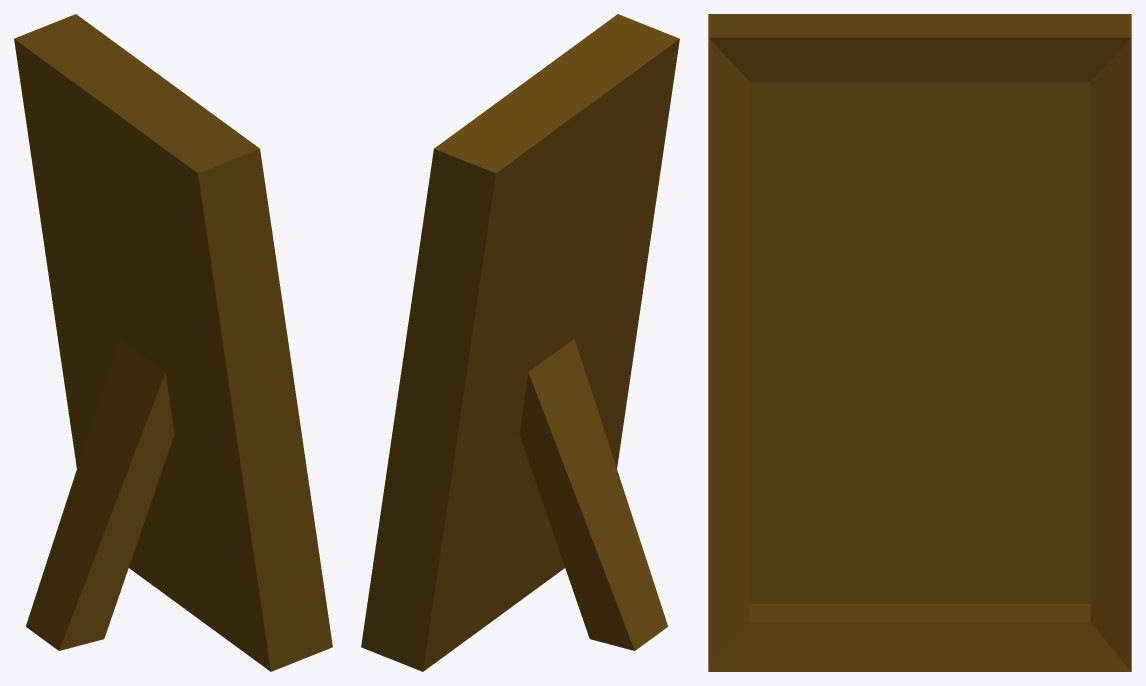
Rendered from pictureframetable03.obj.
The picture shows the model from 3 angles, left to right: view 1: azimuth 30°, elevation 25°; view 2: azimuth 150°, elevation 25°; view 3: azimuth 270°, elevation 25°; orthographic projection. The views are drawn at different scales.
Parts seen in each view (by area): view 1: Cube.001_Cube.002; view 2: Cube.001_Cube.002; view 3: Cube.001_Cube.002.
Boxes of the visible parts, left/top/right/bottom form: Cube.001_Cube.002: left=14, top=14, right=332, bottom=671; Cube.001_Cube.002: left=361, top=14, right=679, bottom=671; Cube.001_Cube.002: left=708, top=14, right=1131, bottom=671.
Size of the model in its own units: 0.0454 by 0.115 by 0.0728.
